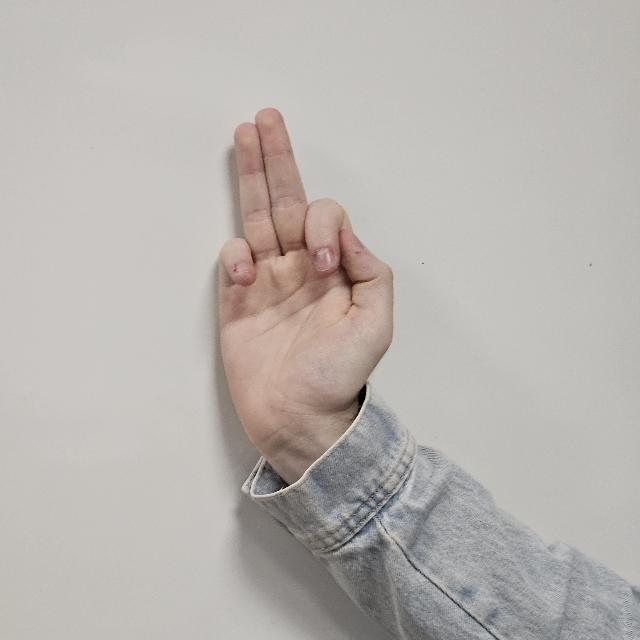R: (208, 104, 396, 470)
